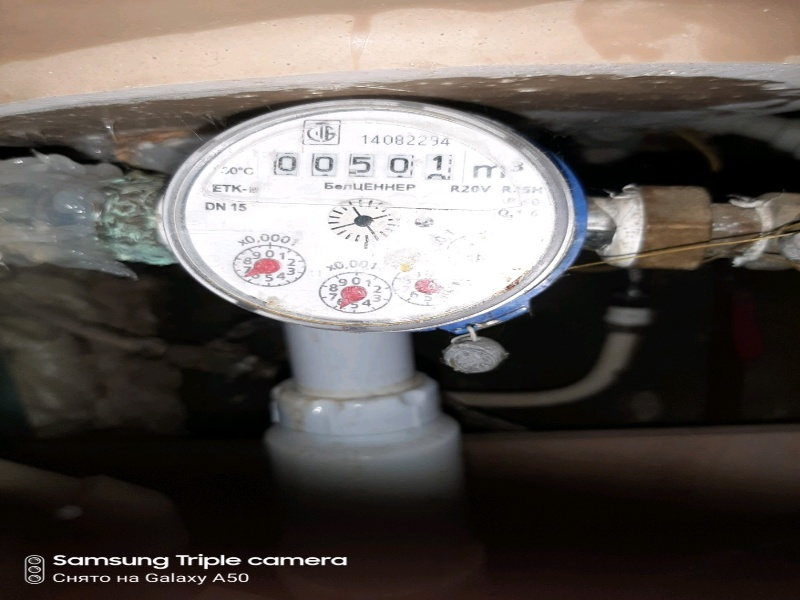meter: (265, 144, 456, 182)
